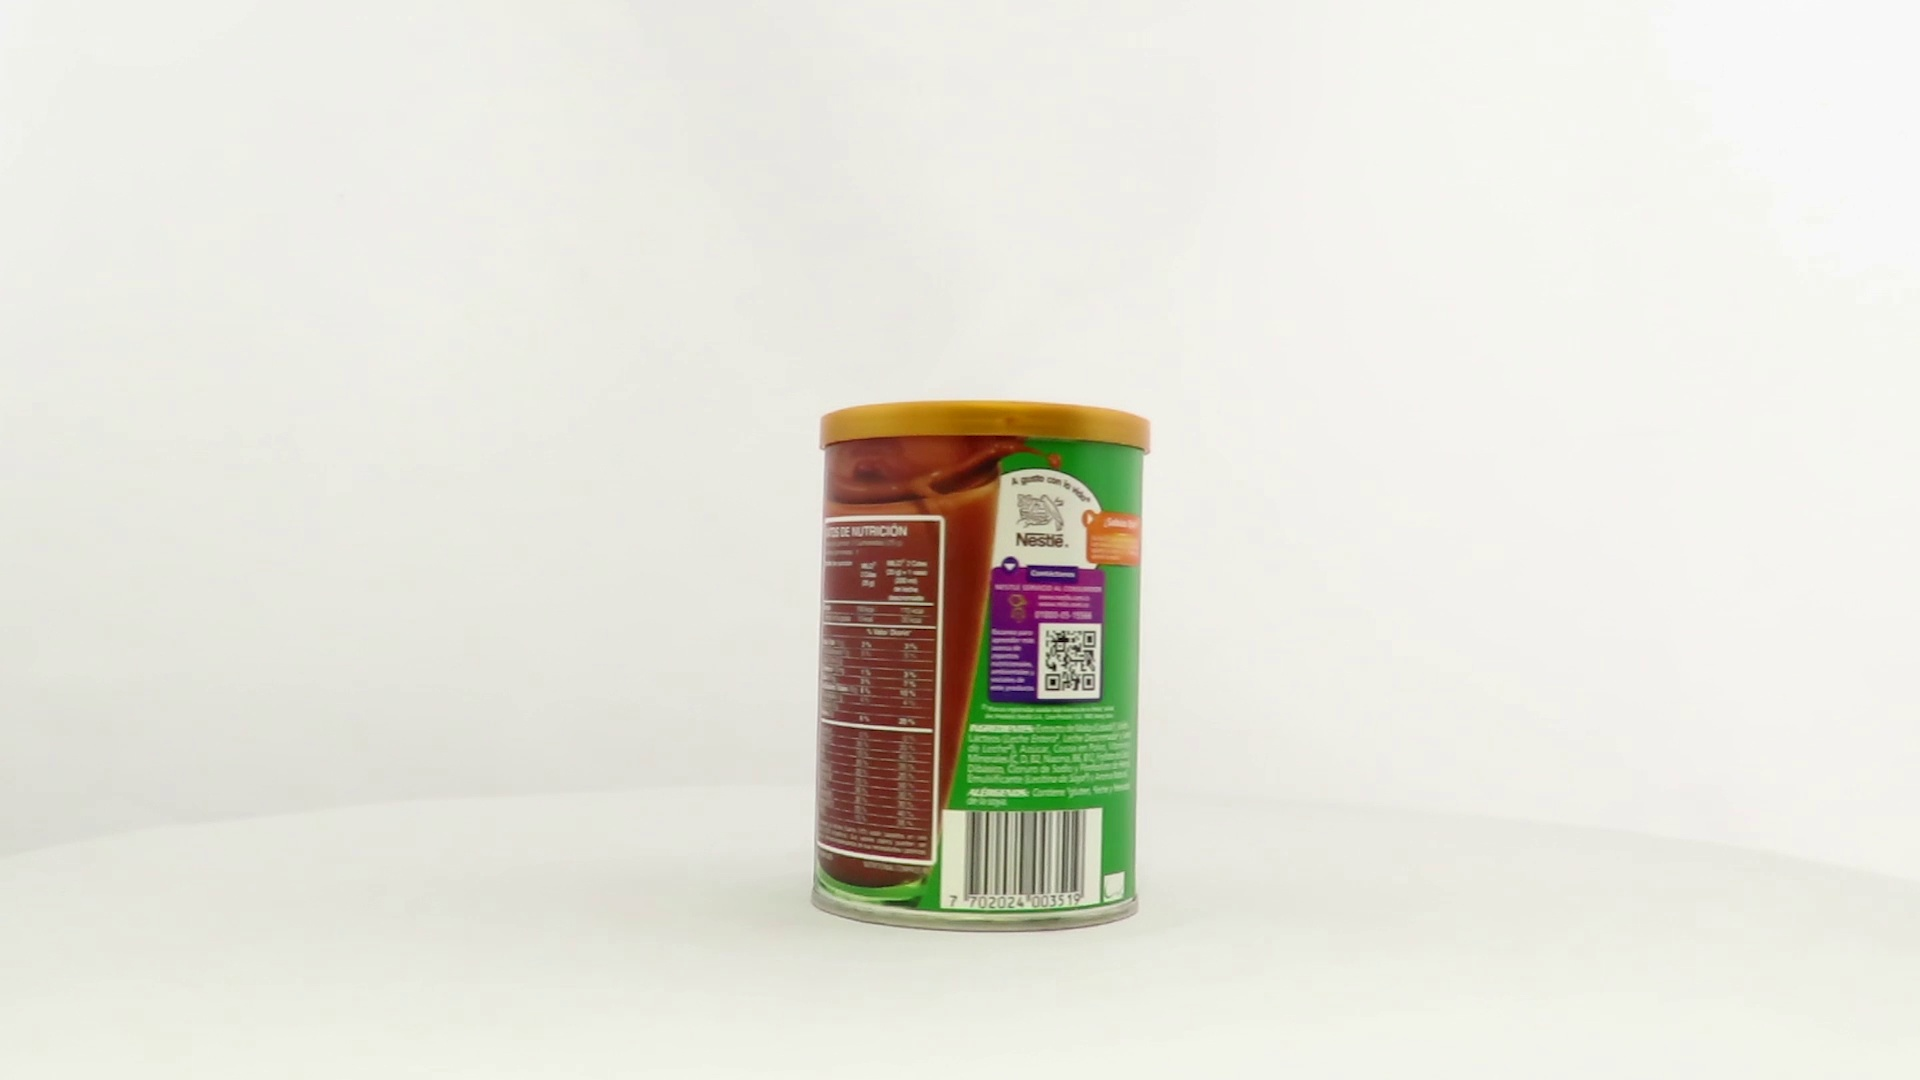COL0170203LAT20000: (804, 396, 1156, 939)
